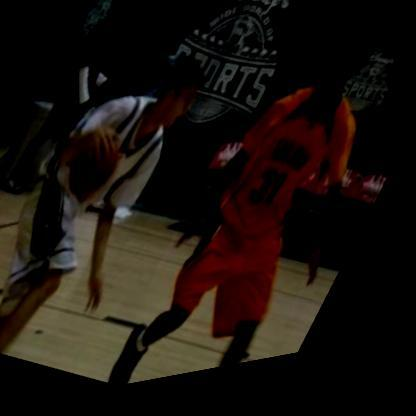basketball: (63, 122, 138, 208)
